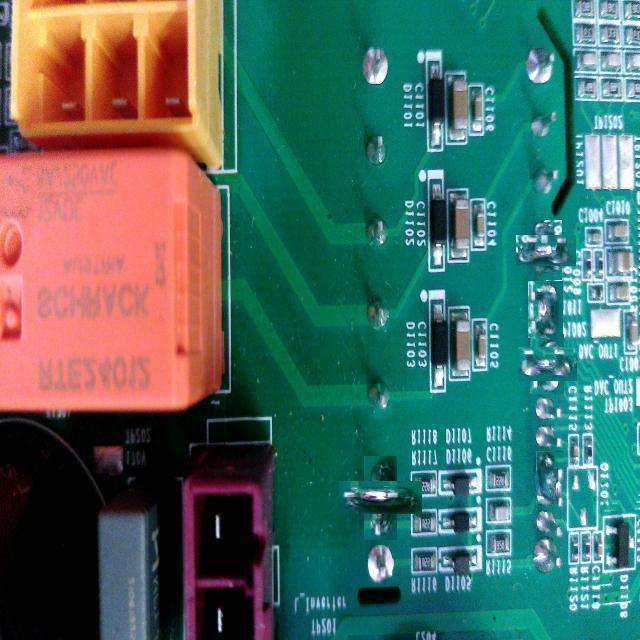Short_circuit: (351, 469, 410, 527), (523, 341, 571, 388), (523, 227, 569, 273), (528, 281, 563, 338), (536, 451, 564, 510)
